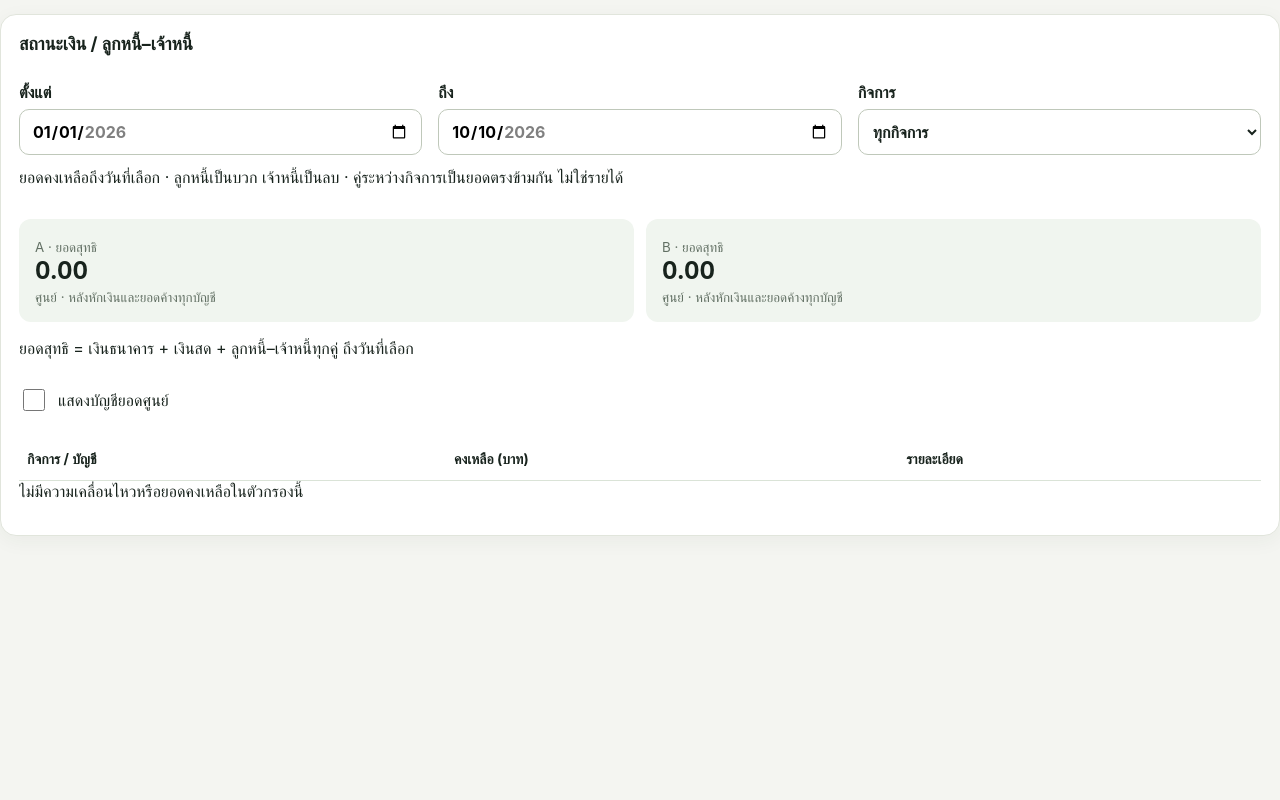
Test: zero option does not bring archived zero accounts back into the status report
The width and height of the screenshot is (1280, 800).
Step 1. Click the checkbox labelled "แสดงบัญชียอดศูนย์" → [34, 400], box [23,389,45,411]
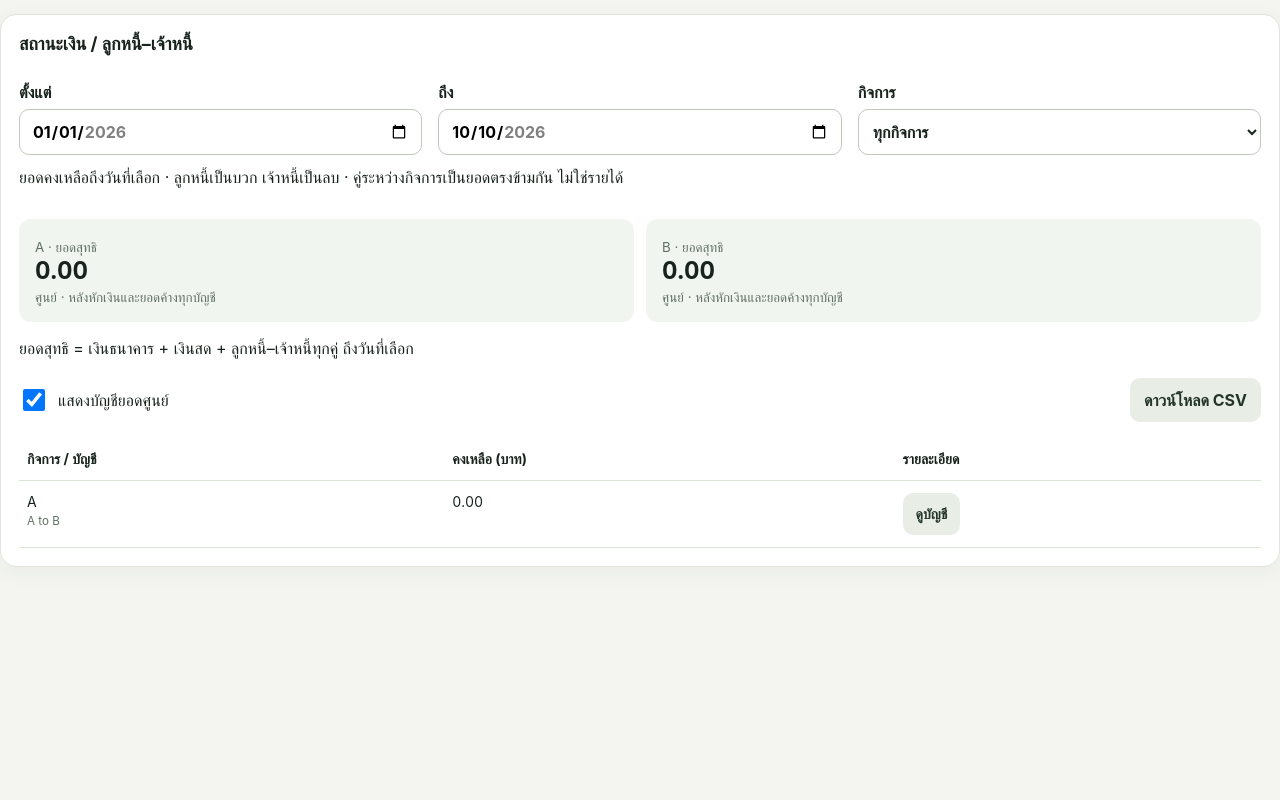
Now the text "A to B" is shown, box [27,514,60,528]
